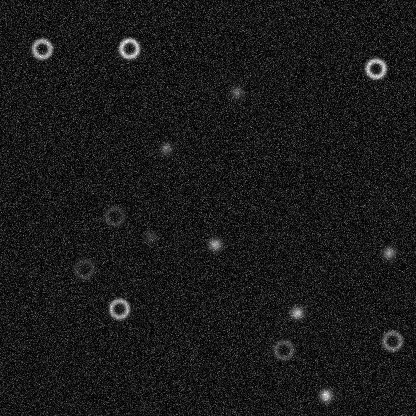Ring: (363, 56, 387, 80), (380, 328, 404, 352), (107, 296, 131, 320), (71, 256, 95, 280), (102, 204, 126, 228), (29, 36, 53, 60), (117, 36, 141, 60), (271, 337, 295, 361)
Spot: (380, 244, 396, 260), (288, 304, 304, 320), (228, 84, 244, 100), (206, 236, 222, 252), (142, 228, 158, 244), (317, 387, 333, 403), (157, 140, 173, 156)
